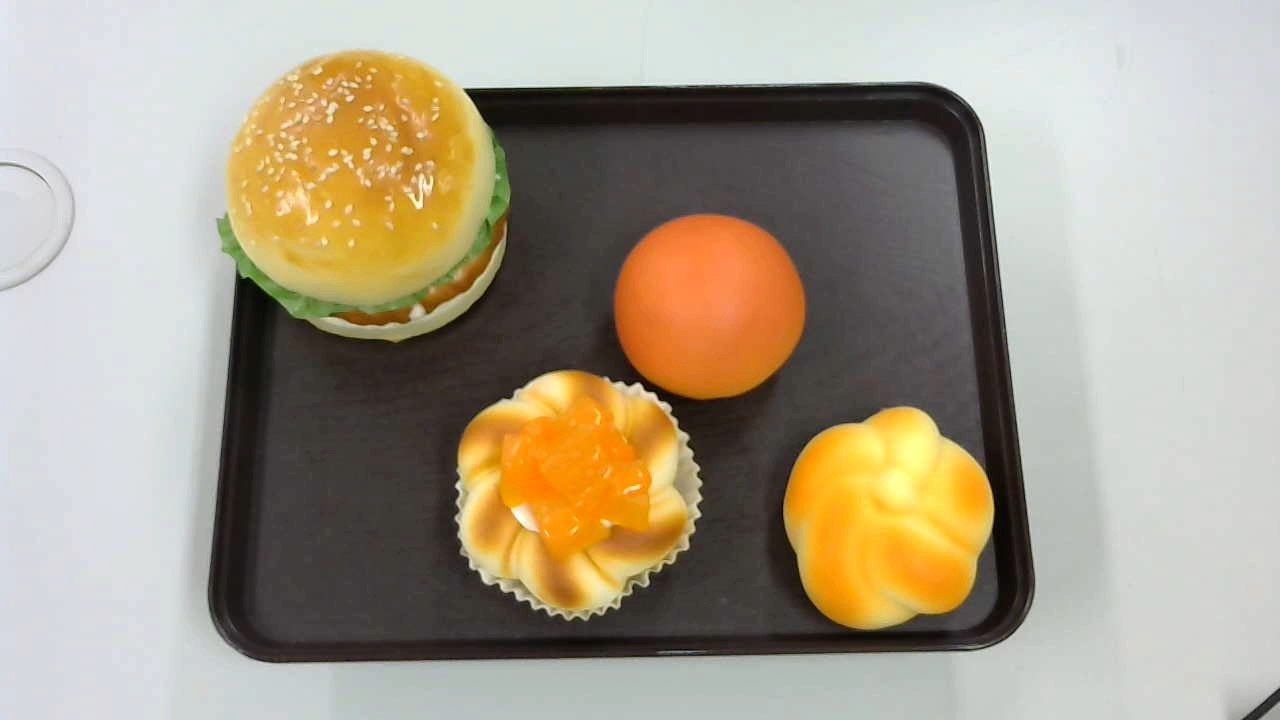bun: (616, 213, 804, 399)
hamburger: (217, 49, 511, 343)
mango tart: (455, 370, 704, 618)
twist bread: (782, 406, 995, 632)
